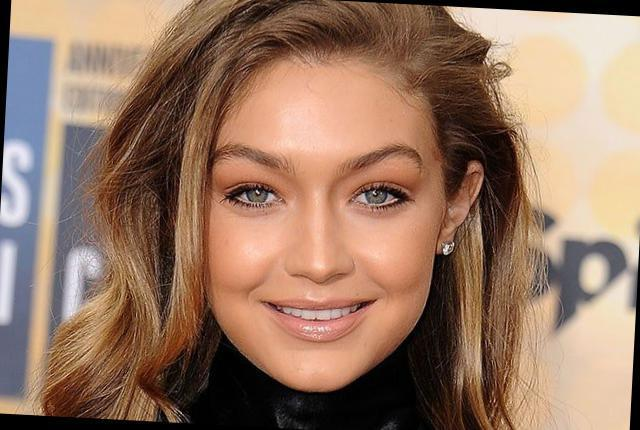Sober: (213, 73, 420, 374)
